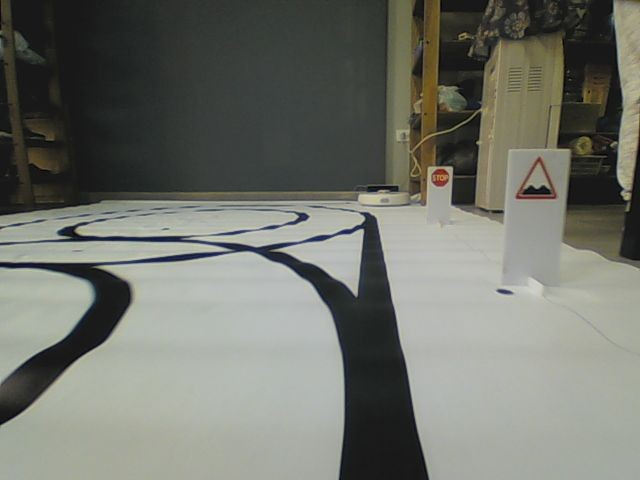Stop: (430, 169, 450, 187)
